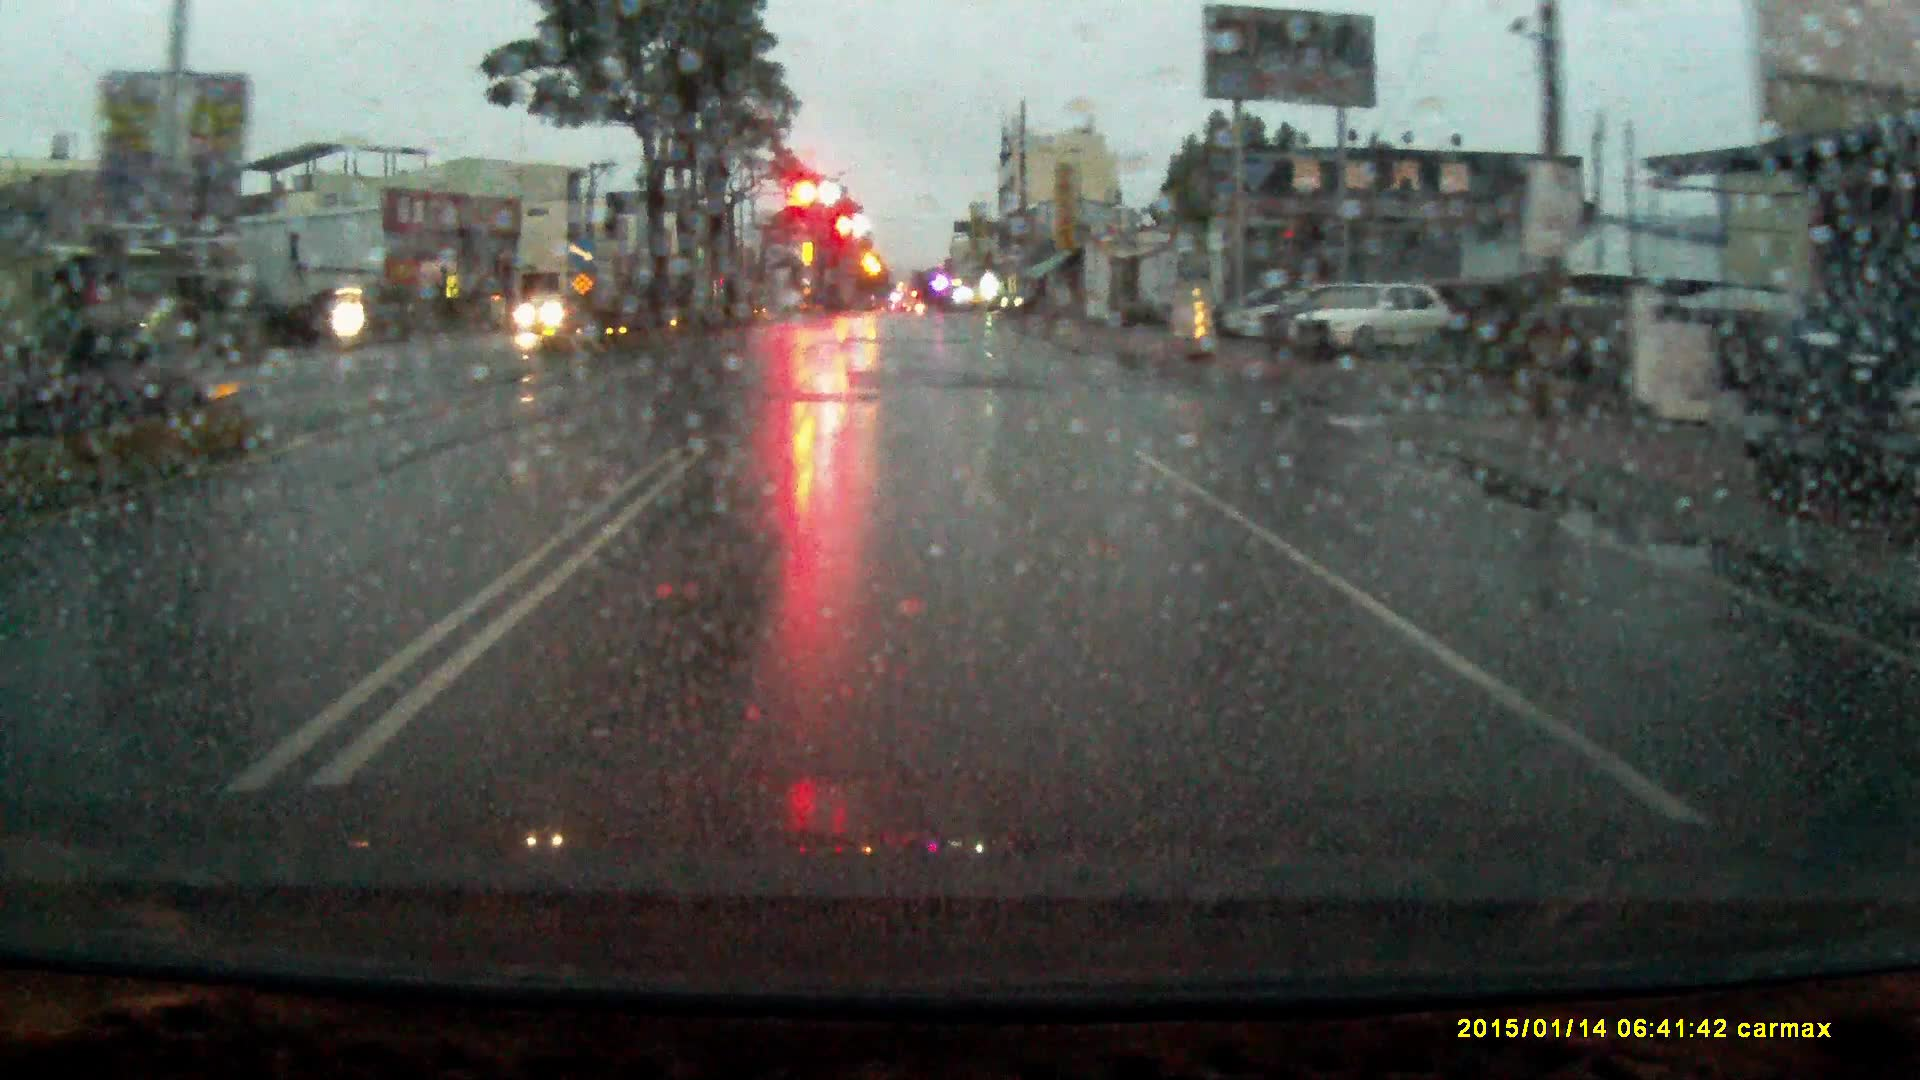vehicle: (1287, 284, 1458, 359), (1257, 280, 1393, 349), (1221, 280, 1345, 338), (518, 295, 589, 336), (1001, 284, 1051, 320)
